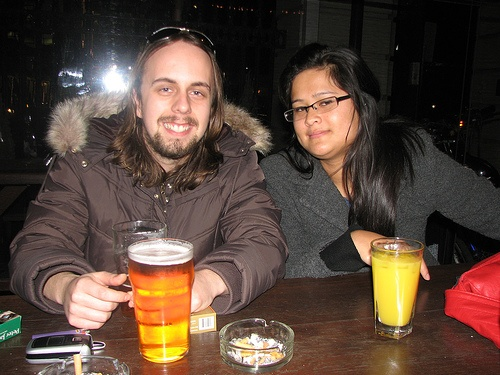head: (277, 43, 388, 160), (130, 28, 220, 162)
person: (6, 33, 290, 309), (259, 47, 500, 280)
